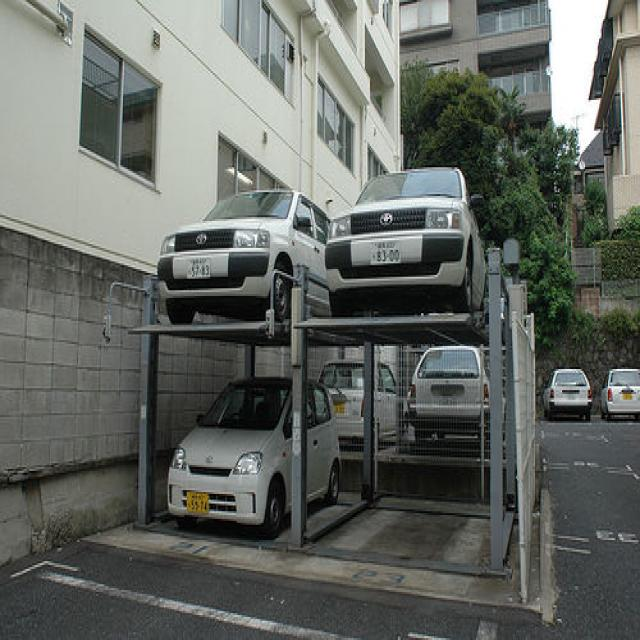Car: (153, 380, 344, 531), (324, 164, 493, 315), (159, 188, 339, 315), (409, 345, 502, 447), (320, 358, 400, 449), (541, 366, 600, 422), (598, 362, 640, 426)
